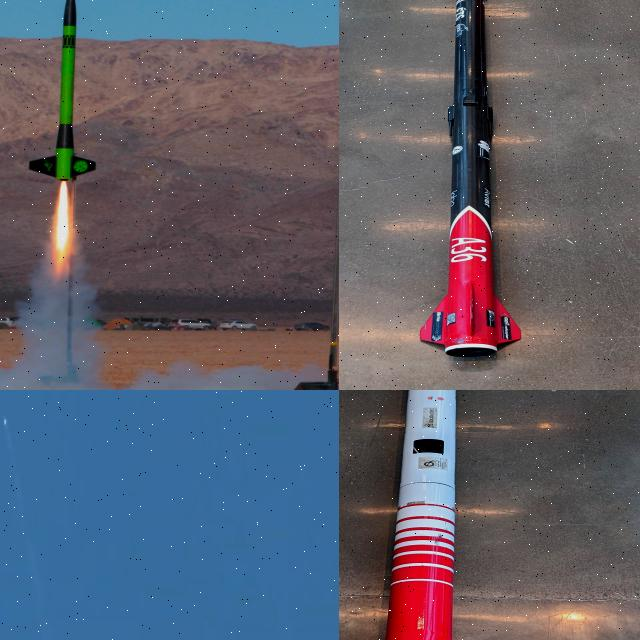Rocket: (419, 0, 522, 358), (385, 390, 457, 640), (27, 0, 97, 181), (3, 416, 7, 425)
